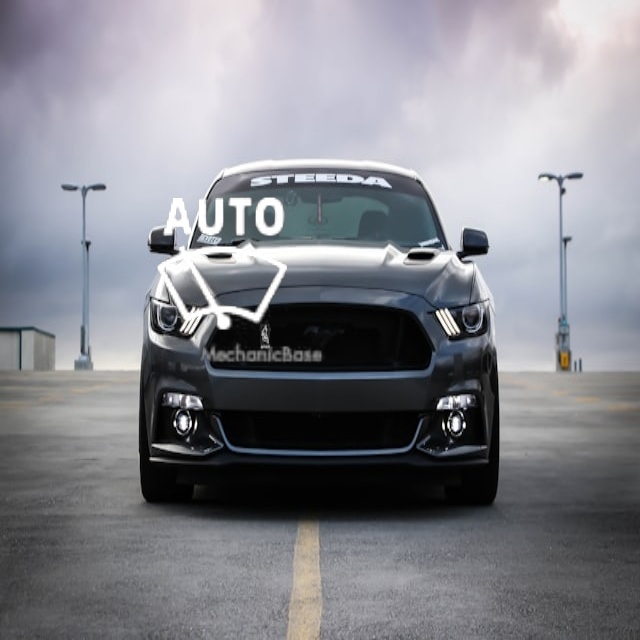symbol: (117, 159, 330, 372), (378, 49, 522, 193)
